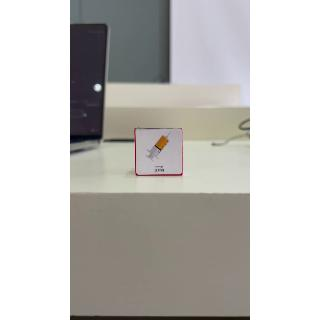Syringe: (137, 129, 185, 176)
